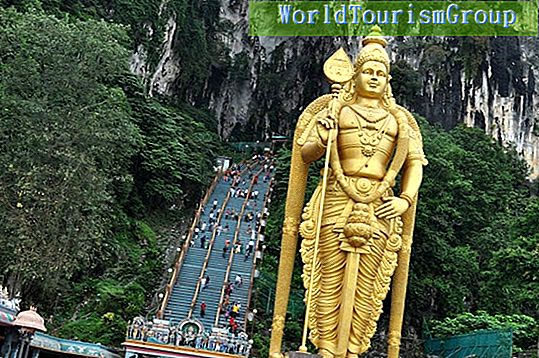Hindu Temple: (272, 35, 420, 352)
